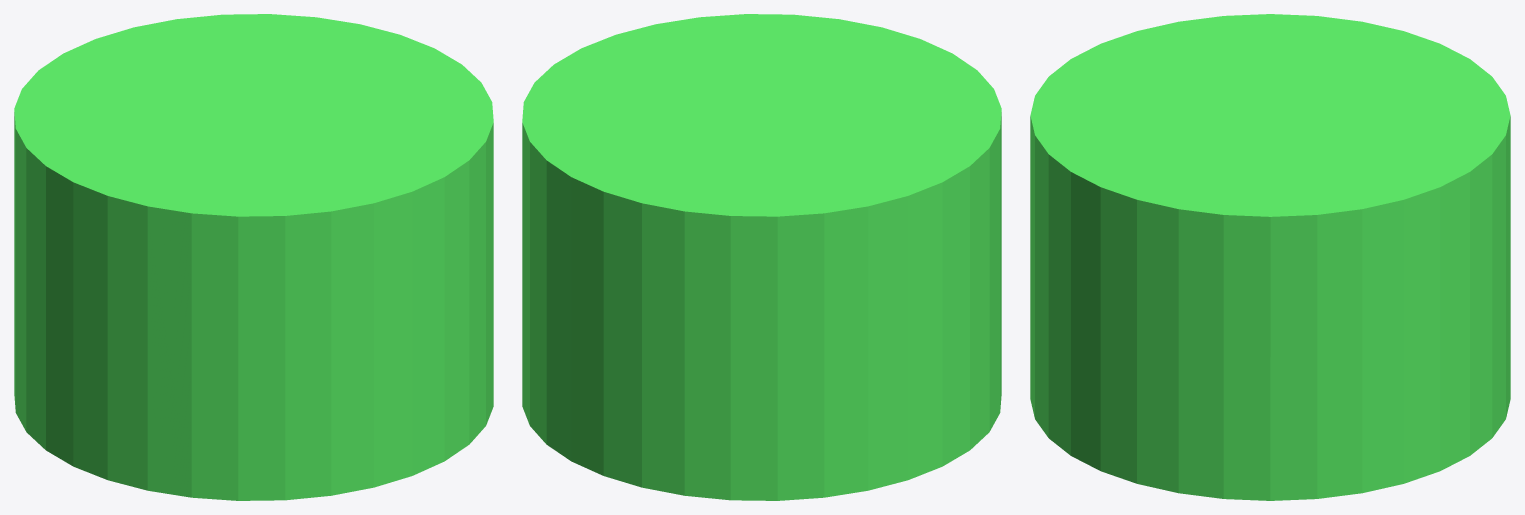
File: TrafficLight_Green.fbx
3 views of the same model, side by side, from view 1: azimuth 30°, elevation 25°; view 2: azimuth 150°, elevation 25°; view 3: azimuth 270°, elevation 25° (orthographic).
Visible parts, largest first — view 1: TrafficLight_Green; view 2: TrafficLight_Green; view 3: TrafficLight_Green.
Boxes of the visible parts, x1,y1,x2,y2 form: TrafficLight_Green: (14,14,493,500); TrafficLight_Green: (522,14,1001,500); TrafficLight_Green: (1030,14,1510,500).
Size of the model in its own units: 2.2 by 1.44 by 2.2.
